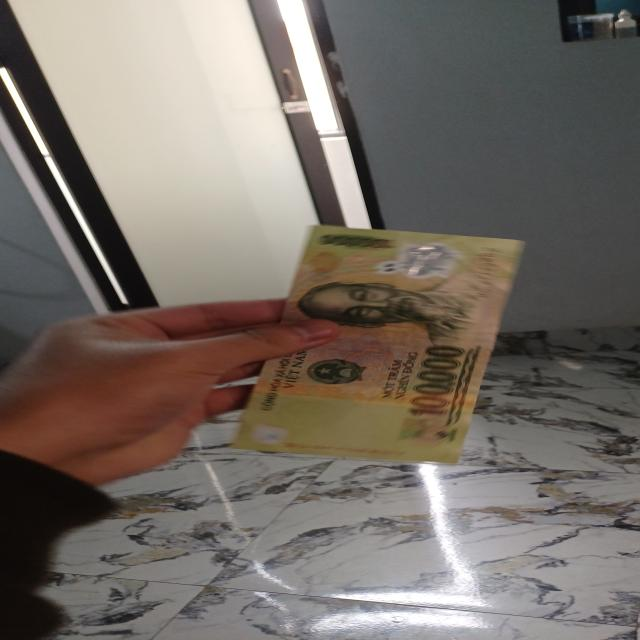100 000 VND: (226, 223, 529, 469)
